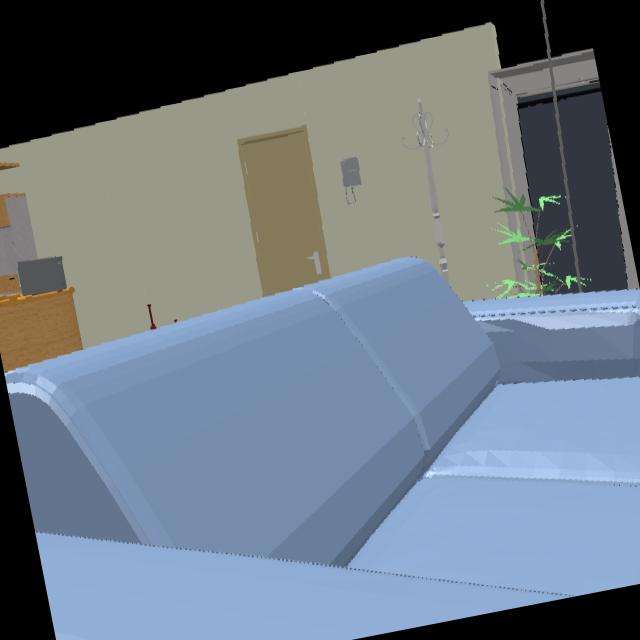microwave: (16, 257, 71, 301)
sofa: (5, 257, 640, 640)
